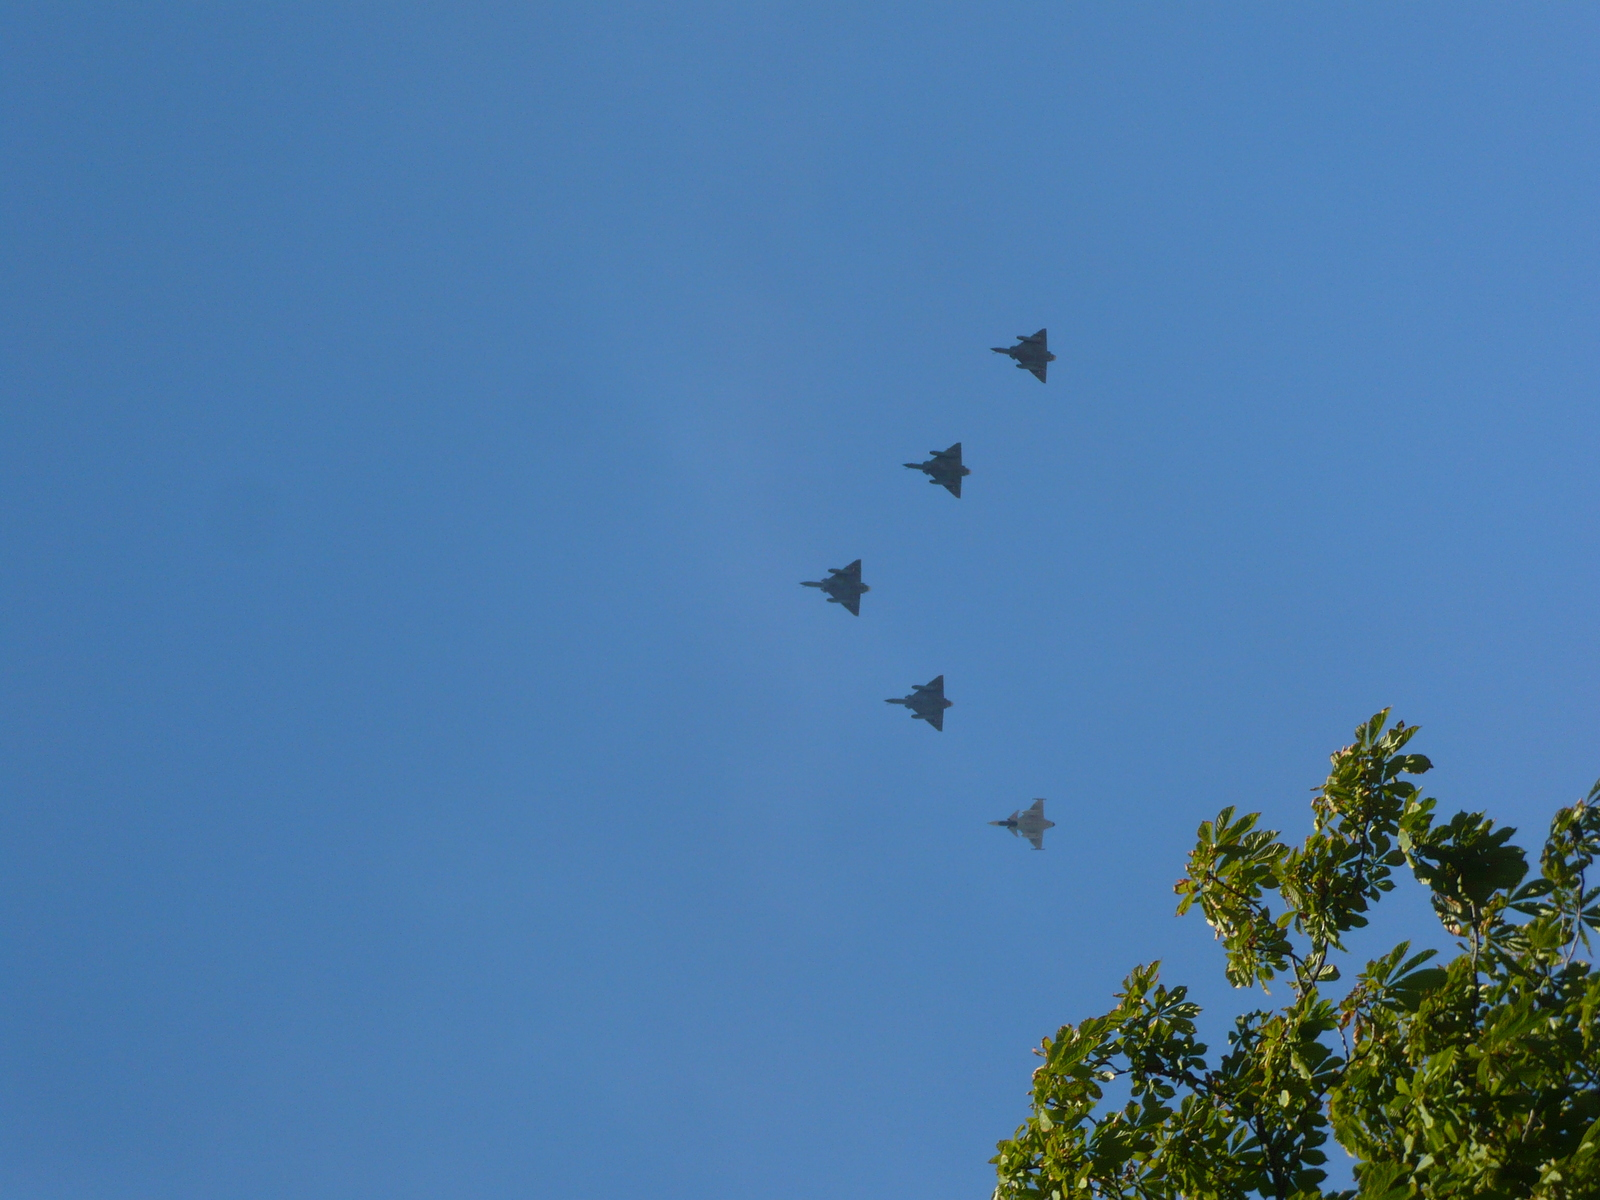JAS39: (984, 797, 1056, 851)
Mirage2000: (882, 673, 954, 732), (901, 441, 973, 500), (797, 558, 871, 616), (989, 326, 1058, 384)
